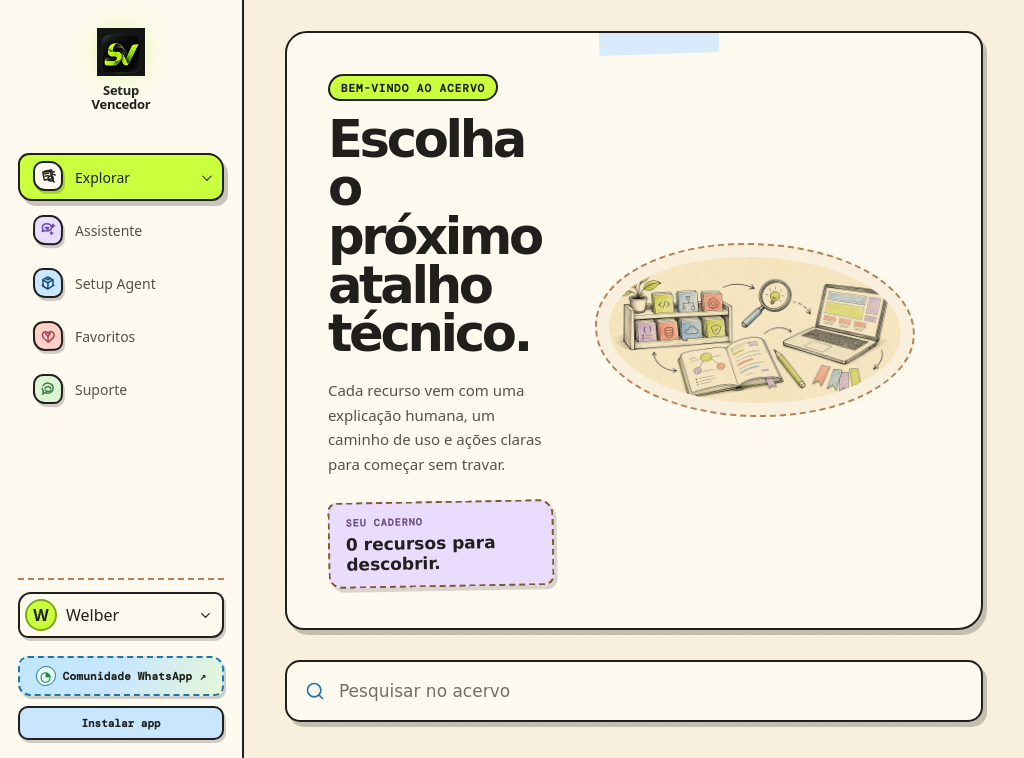
opens the centered account menu with a clear sign-out action
Click the button with aria-label "Abrir menu da conta" at (121, 615), box [18, 592, 224, 638]
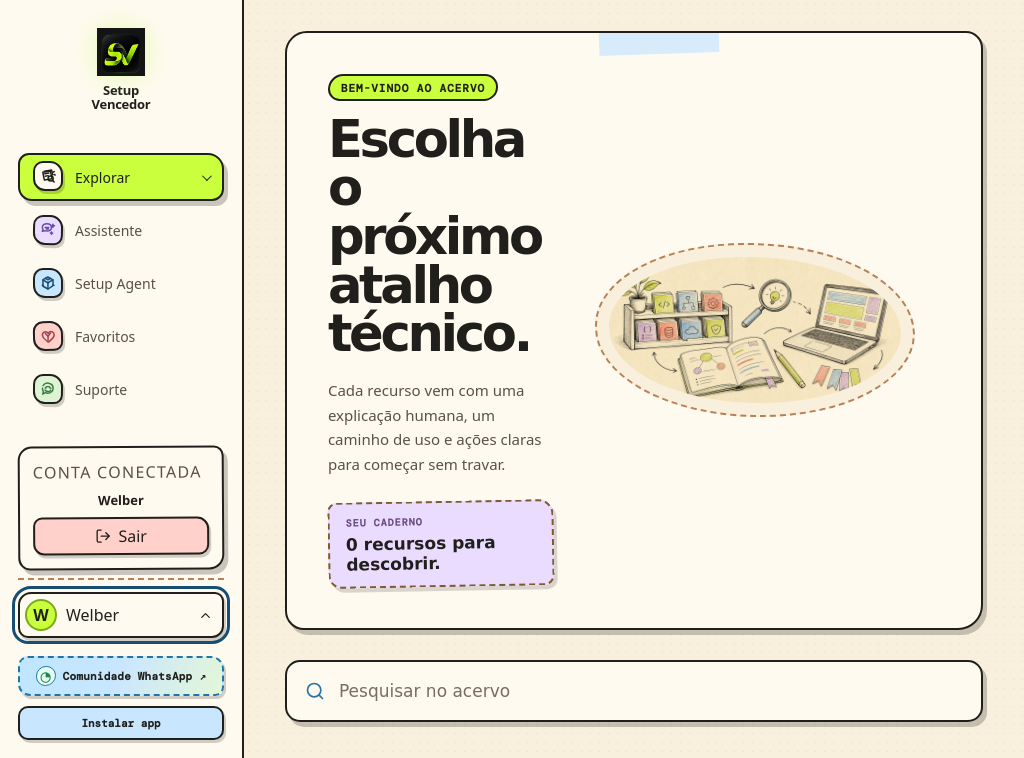
Expected: the menu named "Menu da conta" does not show "Comunidade WhatsApp", [18, 445, 224, 571]
Result: the menu named "Menu da conta" shows "Conta conectada" at [33, 460, 202, 484]
Result: the menu item "Sair" is shown at [33, 516, 209, 556]
